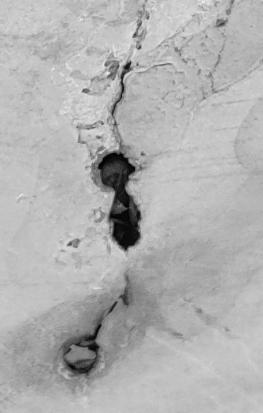crack: (1, 0, 263, 413)
